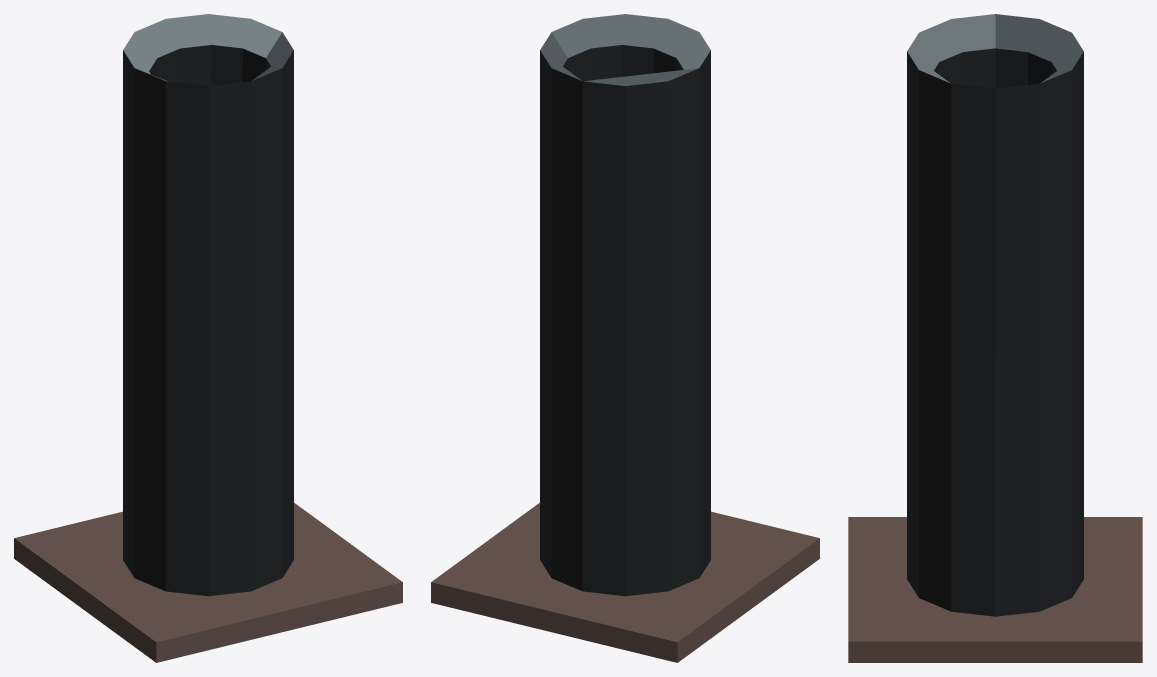
Rendered from Cannister_Tube_3inch_textured.fbx.
The picture shows the model from 3 angles, left to right: view 1: azimuth 30°, elevation 25°; view 2: azimuth 150°, elevation 25°; view 3: azimuth 270°, elevation 25°; orthographic projection. The views are drawn at different scales.
Parts seen in each view (by area): view 1: Cylinder, Cube; view 2: Cylinder, Cube; view 3: Cylinder, Cube.
Part boxes in pixels (box(x1,y1,x2,y2)): Cylinder: box(123, 14, 293, 596); Cube: box(14, 503, 402, 662); Cylinder: box(540, 14, 710, 596); Cube: box(431, 503, 819, 662); Cylinder: box(907, 14, 1083, 616); Cube: box(848, 517, 1142, 662).
Size of the model in its own units: 25 by 51.44 by 25.
